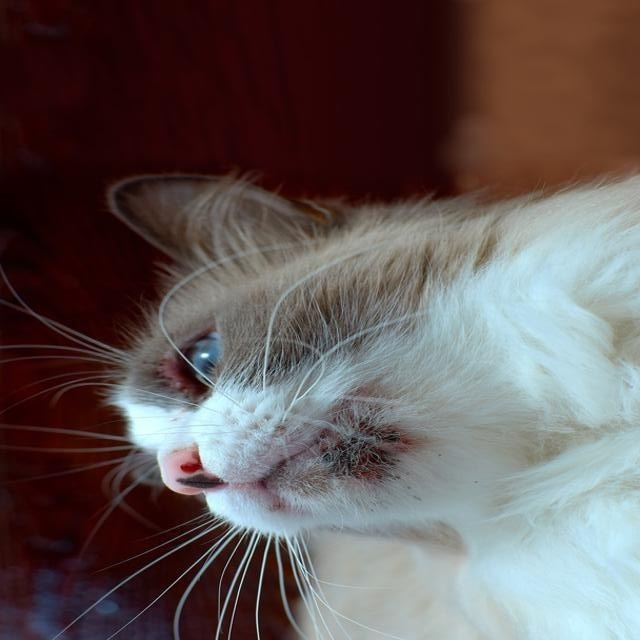acne: (318, 411, 412, 484)
